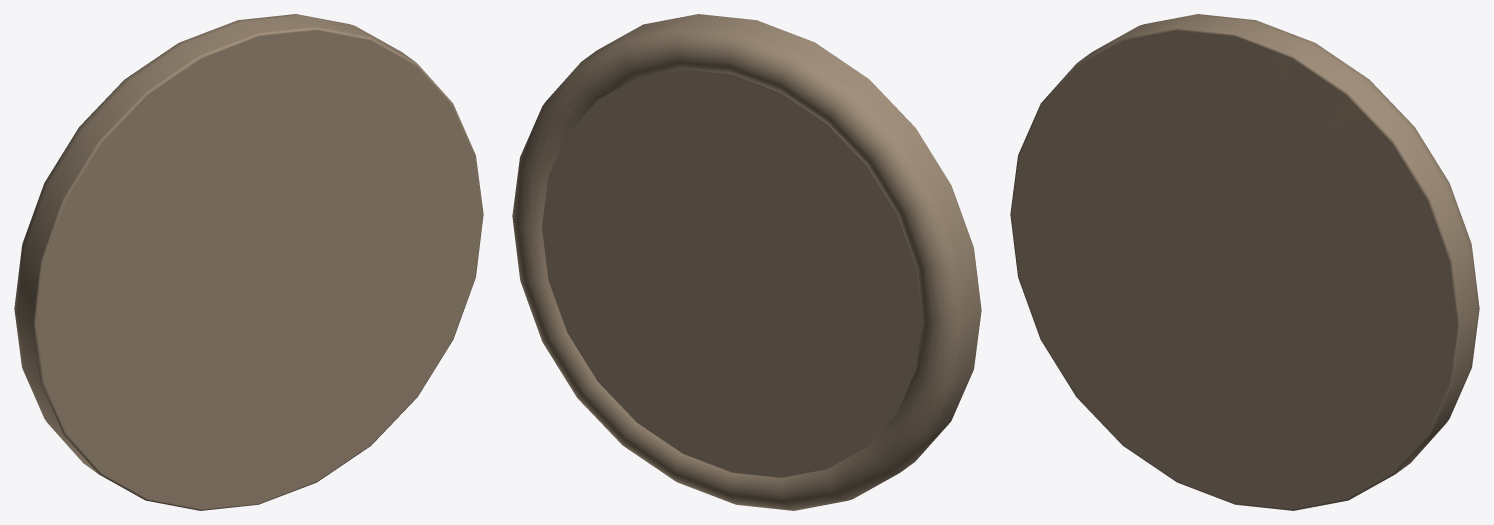
File: clock0.fbx
3 views of the same model, side by side, from view 1: azimuth 30°, elevation 25°; view 2: azimuth 150°, elevation 25°; view 3: azimuth 330°, elevation 25° (orthographic).
Visible parts, largest first — view 1: clock0; view 2: Glass, clock0; view 3: clock0.
Part boxes in pixels (left/top/right/bottom): clock0: left=14, top=14, right=483, bottom=510; Glass: left=542, top=69, right=922, bottom=477; clock0: left=512, top=14, right=981, bottom=510; clock0: left=1010, top=14, right=1479, bottom=510.
Size of the model in its own units: 72.97 by 72.97 by 8.03.
